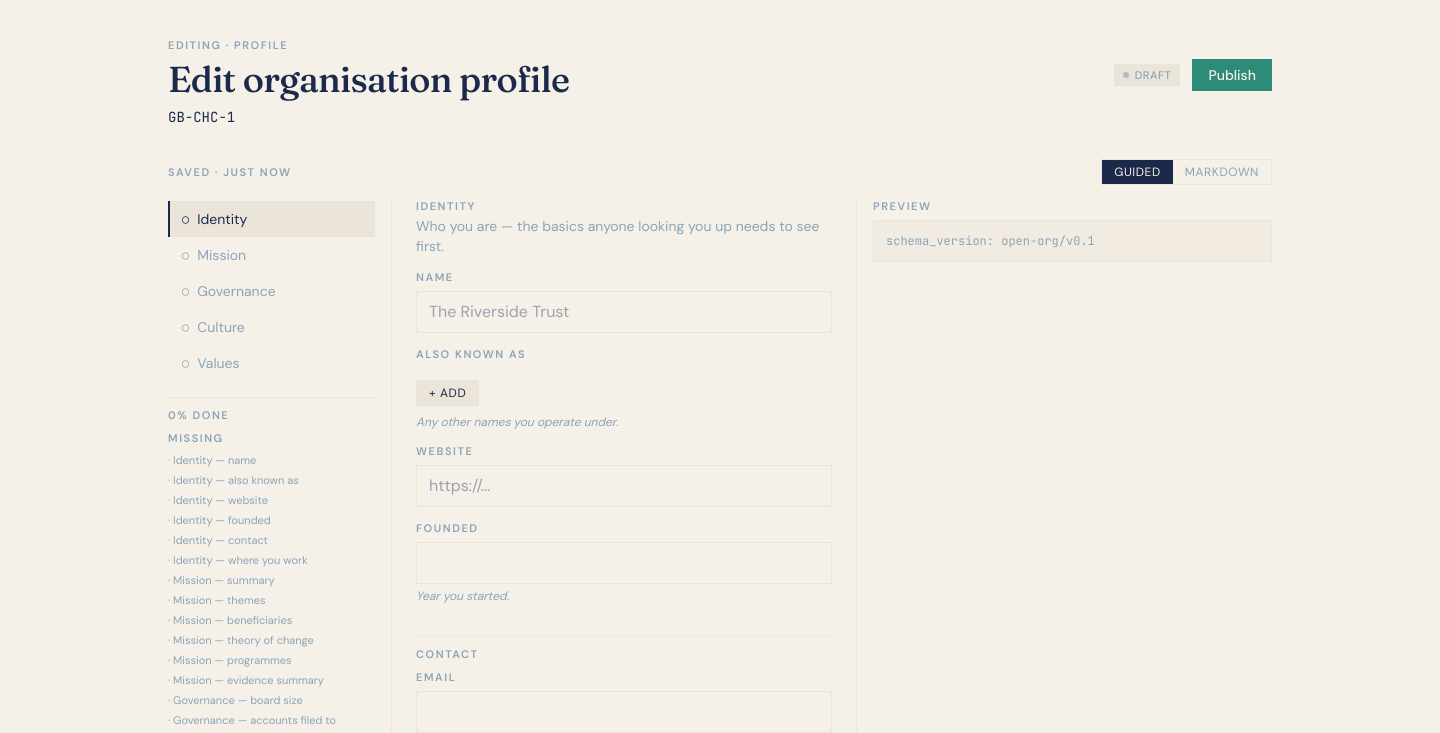
Test: EditProfilePage publish controls › renders the inline publish confirm strip on click
What coordinates should you click on to do the following:
click the button "Publish"
I would click on:
 (1232, 75)
Its box is [1192,59,1272,91].
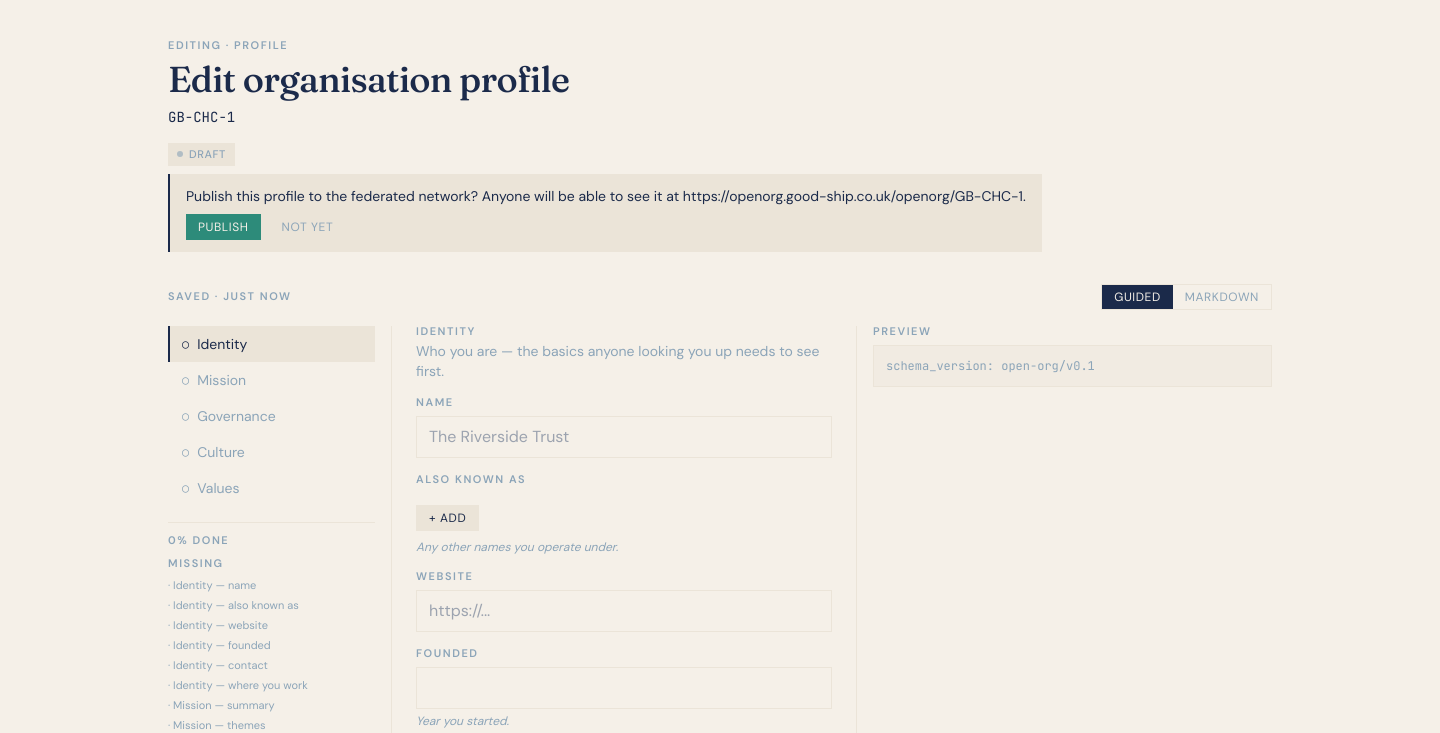
Result: the text "Publish this profile to the federated network" is shown at [186,186,1026,204]
